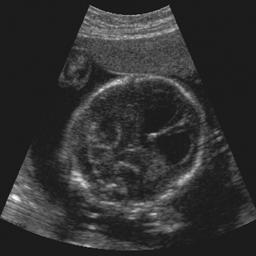abnormal: (61, 76, 210, 212)
